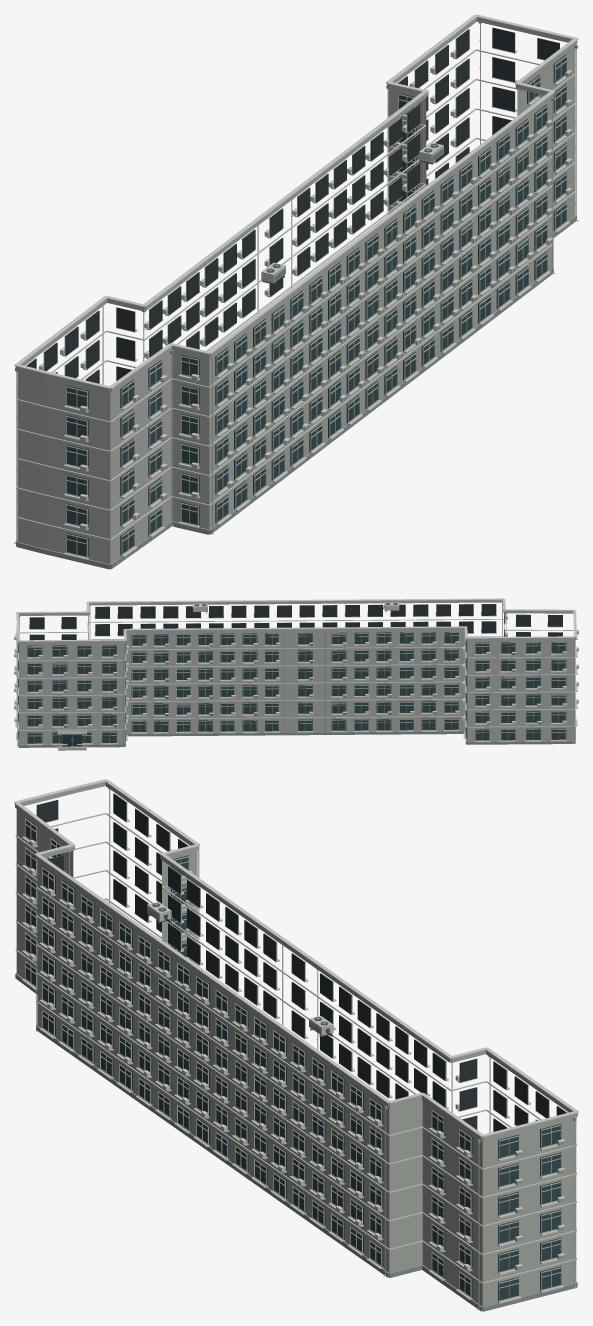
Rendered from osm_way_225255192.glb.
The picture shows the model from 3 angles, top to bottom: view 1: azimuth 30°, elevation 25°; view 2: azimuth 150°, elevation 25°; view 3: azimuth 270°, elevation 25°; orthographic projection. The views are drawn at different scales.
Visible parts, largest first — view 1: Windows and facade details | 45, Architecture | 45, Roof services | 45, EXTERIOR::osm_way_225255192::rainwater and roof service deta; view 2: Architecture | 45, Windows and facade details | 45, Roof services | 45, EXTERIOR::osm_way_225255192::rainwater and roof service deta, EXTERIOR::osm_way_225255192::inferred entry doors canopy and, EXTERIOR::osm_way_225255192::native pane seals and hardware; view 3: Windows and facade details | 45, Architecture | 45, Roof services | 45, EXTERIOR::osm_way_225255192::rainwater and roof service deta.
Part boxes in pixels (x1=…): Windows and facade details | 45: x1=26, y1=27, x2=572, y2=560; Architecture | 45: x1=15, y1=17, x2=577, y2=569; Roof services | 45: x1=14, y1=14, x2=578, y2=389; EXTERIOR::osm_way_225255192::rainwater and roof service deta: x1=14, y1=22, x2=578, y2=543; Architecture | 45: x1=18, y1=600, x2=575, y2=747; Windows and facade details | 45: x1=14, y1=602, x2=578, y2=745; Roof services | 45: x1=16, y1=598, x2=576, y2=641; EXTERIOR::osm_way_225255192::rainwater and roof service deta: x1=16, y1=602, x2=573, y2=747; EXTERIOR::osm_way_225255192::inferred entry doors canopy and: x1=57, y1=728, x2=86, y2=750; EXTERIOR::osm_way_225255192::native pane seals and hardware: x1=28, y1=634, x2=565, y2=735; Windows and facade details | 45: x1=22, y1=793, x2=567, y2=1303; Architecture | 45: x1=15, y1=782, x2=577, y2=1311; Roof services | 45: x1=14, y1=779, x2=578, y2=1137; EXTERIOR::osm_way_225255192::rainwater and roof service deta: x1=69, y1=788, x2=576, y2=1310.
Bounding box in the file's own units: 86.15 × 20.58 × 57.53.
